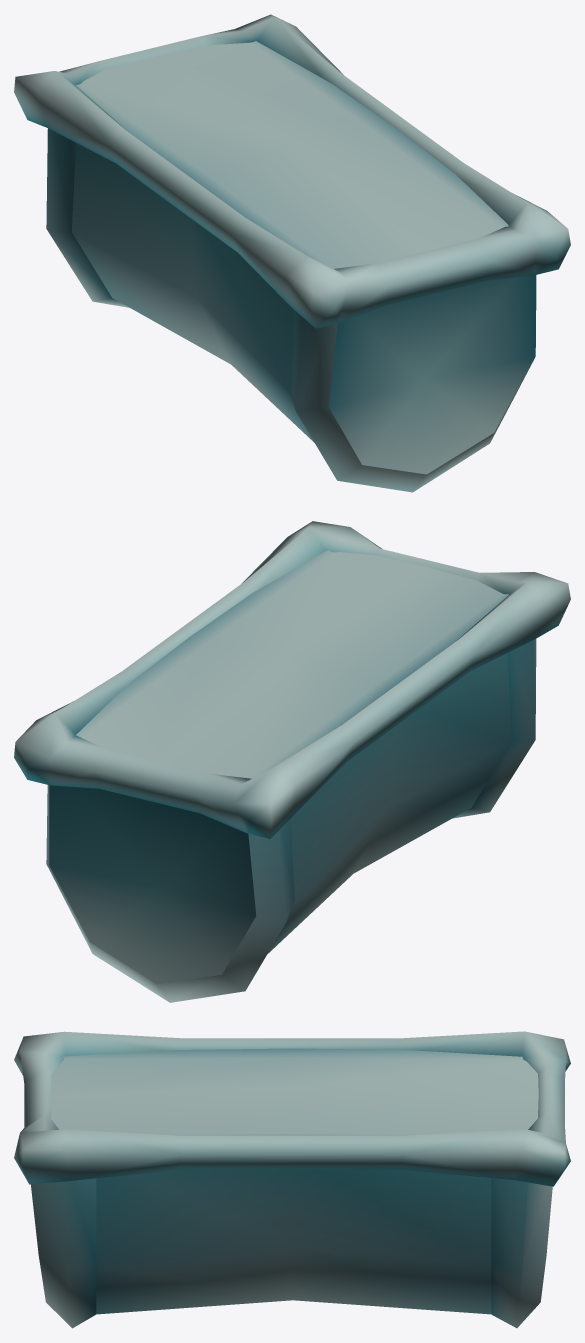
File: PlatformCavernSmall.gltf
The picture shows the model from 3 angles, top to bottom: view 1: azimuth 30°, elevation 25°; view 2: azimuth 150°, elevation 25°; view 3: azimuth 270°, elevation 25°; orthographic projection. The views are drawn at different scales.
Visible parts, largest first — view 1: PlatformCavernSmallMesh; view 2: PlatformCavernSmallMesh; view 3: PlatformCavernSmallMesh.
Part boxes in pixels (<box>): PlatformCavernSmallMesh: <box>14,14,570,492</box>; PlatformCavernSmallMesh: <box>14,521,570,1002</box>; PlatformCavernSmallMesh: <box>14,1031,570,1328</box>.
Size of the model in its own units: 1.07 by 1.05 by 2.18.
